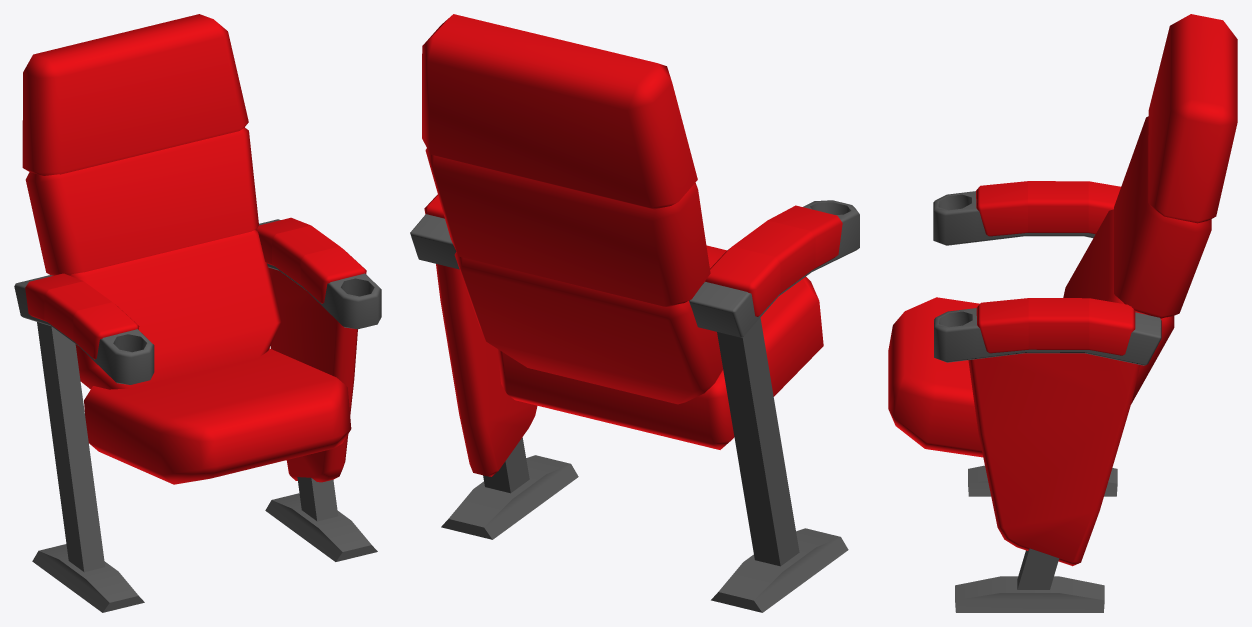
The model's file is seat_theatre1.fbx.
The picture shows the model from 3 angles, left to right: view 1: azimuth 30°, elevation 25°; view 2: azimuth 150°, elevation 25°; view 3: azimuth 270°, elevation 25°; orthographic projection. The views are drawn at different scales.
Visible parts, largest first — view 1: seat2; view 2: seat2; view 3: seat2.
Boxes of the visible parts, x1,y1,x2,y2 form: seat2: (14, 14, 381, 612); seat2: (410, 14, 859, 612); seat2: (888, 14, 1237, 612).
Size of the model in its own units: 1.46 by 2.4 by 1.55.
